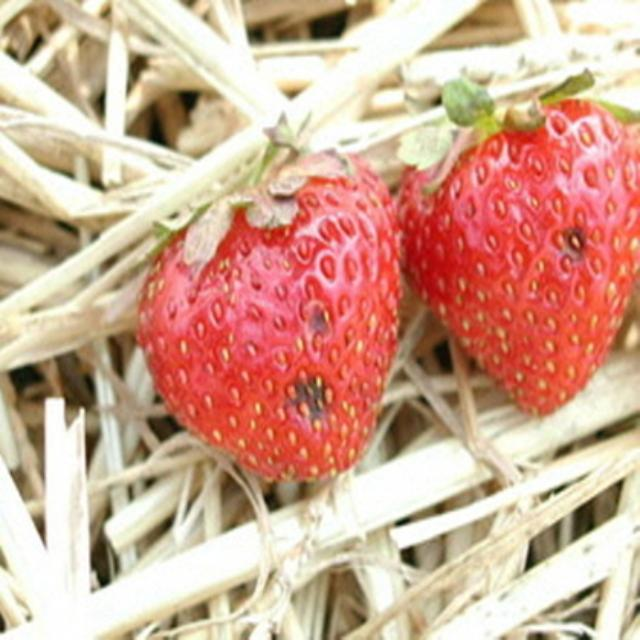Anthracnose Fruit Rot: (284, 305, 344, 428), (555, 222, 597, 262)
